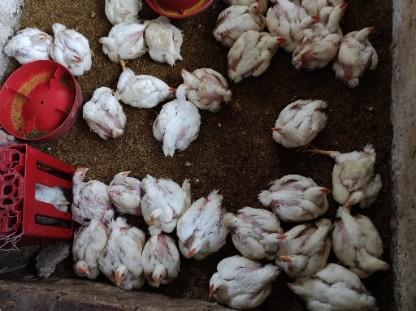Pollos: (282, 267, 385, 311), (198, 254, 281, 308), (332, 210, 397, 278), (174, 190, 236, 261), (138, 167, 196, 236), (260, 165, 334, 219), (135, 227, 188, 294), (157, 83, 205, 155), (221, 30, 286, 83), (297, 5, 353, 65), (270, 98, 331, 149), (103, 215, 143, 291), (0, 12, 52, 66), (332, 157, 385, 209), (280, 215, 322, 277), (114, 63, 174, 106), (343, 25, 384, 87), (176, 65, 231, 111), (53, 22, 94, 79), (81, 81, 120, 140), (73, 167, 114, 221), (72, 217, 105, 284), (109, 166, 148, 222), (98, 25, 156, 61), (217, 0, 262, 45), (147, 14, 187, 64), (273, 0, 327, 36), (31, 177, 72, 217), (96, 1, 146, 25)
